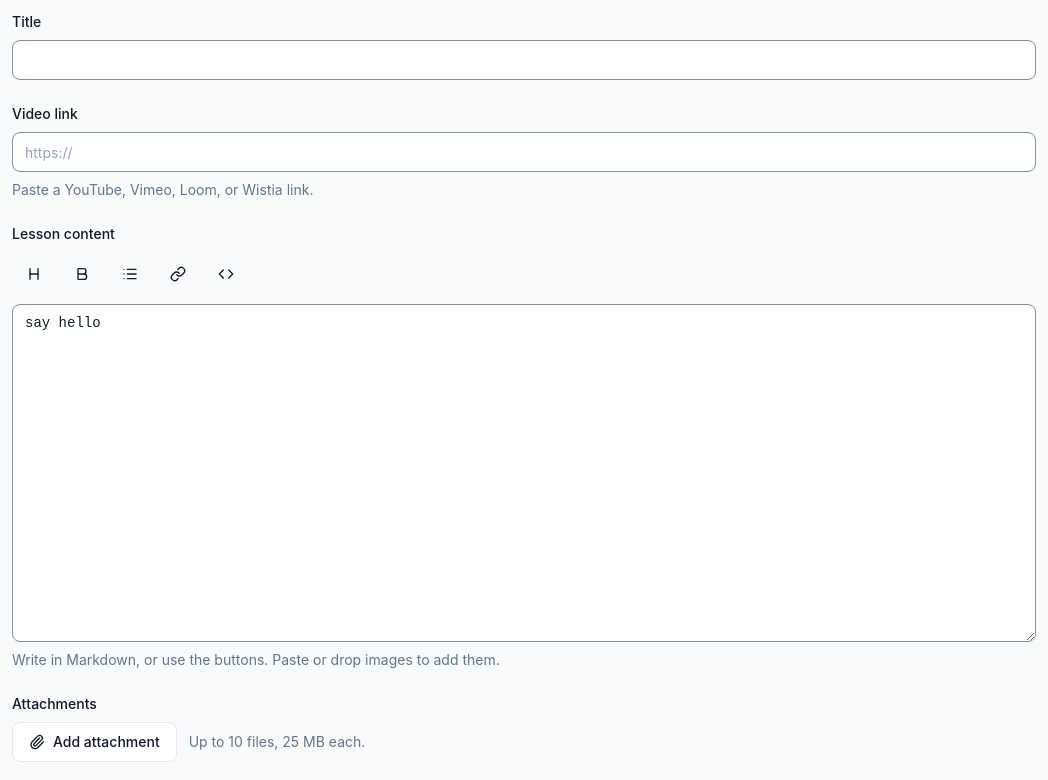
Test case: LessonForm writing tools › formats the selected text from the toolbar
Click the button named "Bold" at x=82, y=274, box [60, 252, 104, 296]
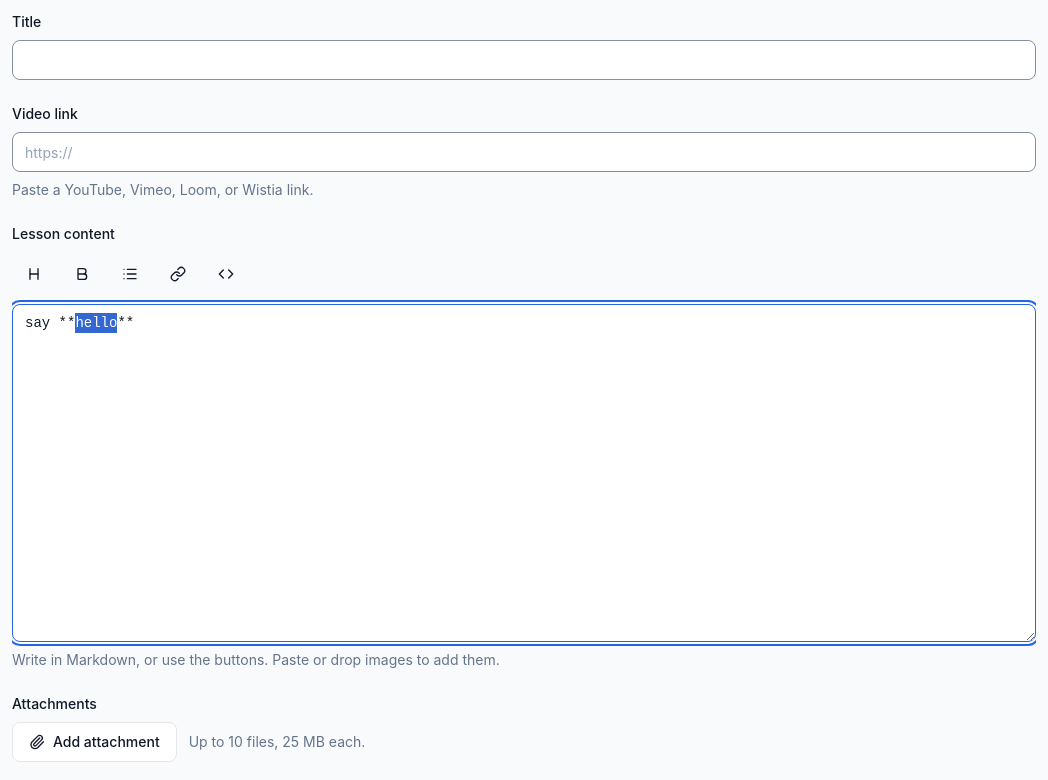
Result: the text box labelled "Lesson content" holds "say **hello**" at [12, 304, 1036, 642]
